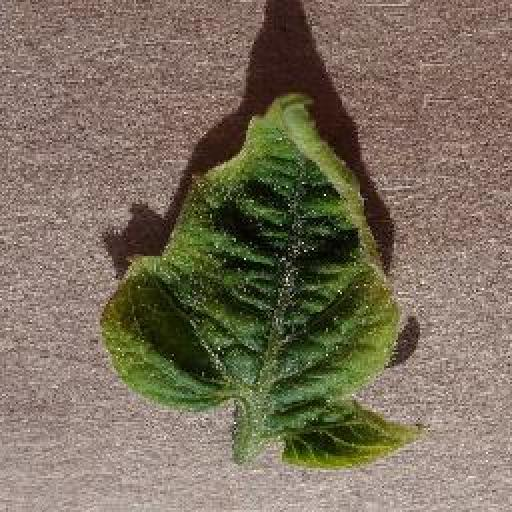Yellow Leaf Curl Virus: (99, 94, 428, 470)
